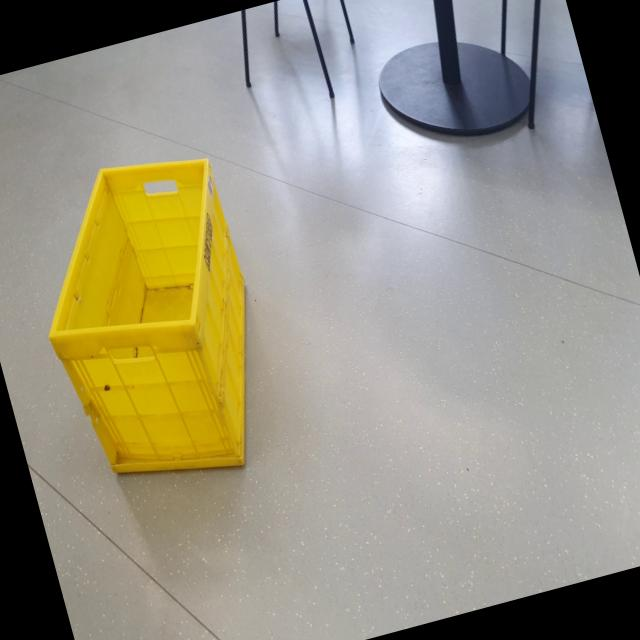box: (1, 110, 298, 518)
